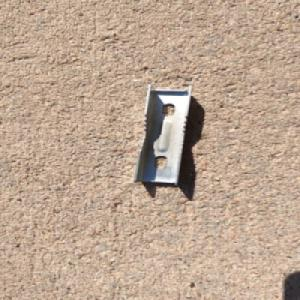ClampPart: (130, 82, 196, 186)
